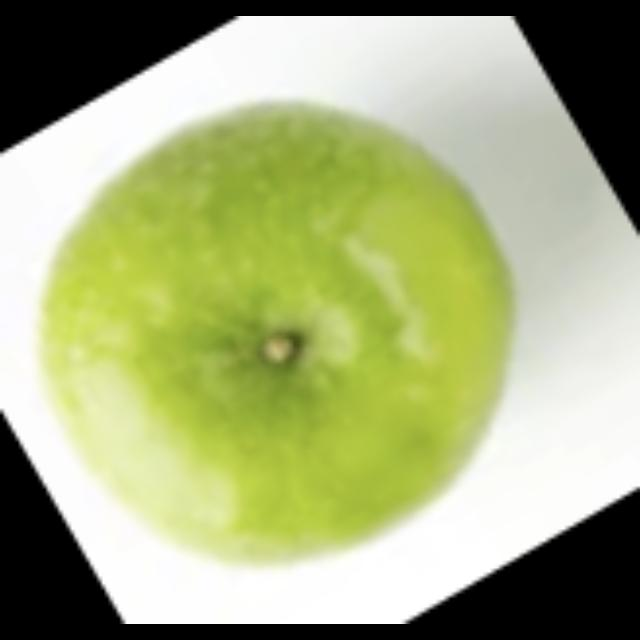Apel Segar: (39, 99, 518, 562)
